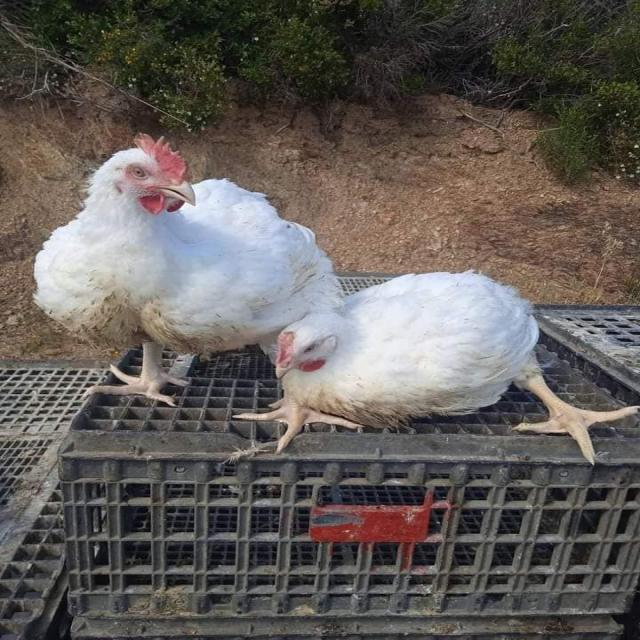Healthy: (24, 121, 339, 398)
Unhealthy: (236, 265, 618, 488)
